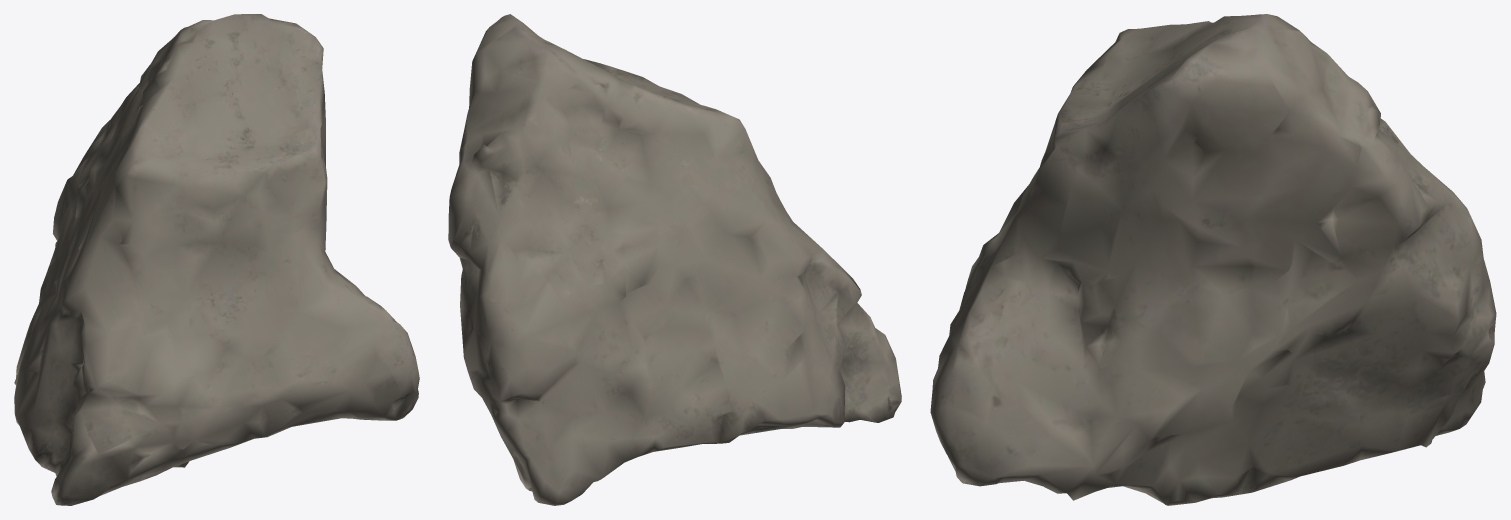
The model's file is moon_rock_05.glb.
3 renders of one model, left to right at view 1: azimuth 30°, elevation 25°; view 2: azimuth 150°, elevation 25°; view 3: azimuth 270°, elevation 25°, orthographic. The views are drawn at different scales.
Visible parts, largest first — view 1: moon_rock_05_LOD0; view 2: moon_rock_05_LOD0; view 3: moon_rock_05_LOD0.
Part boxes in pixels (x1,y1,x2,y2): moon_rock_05_LOD0: (14, 14, 419, 505); moon_rock_05_LOD0: (448, 14, 901, 505); moon_rock_05_LOD0: (930, 14, 1496, 505).
Bounding box in the file's own units: 0.0717 × 0.0734 × 0.0811.
1 material, 1 textured.
